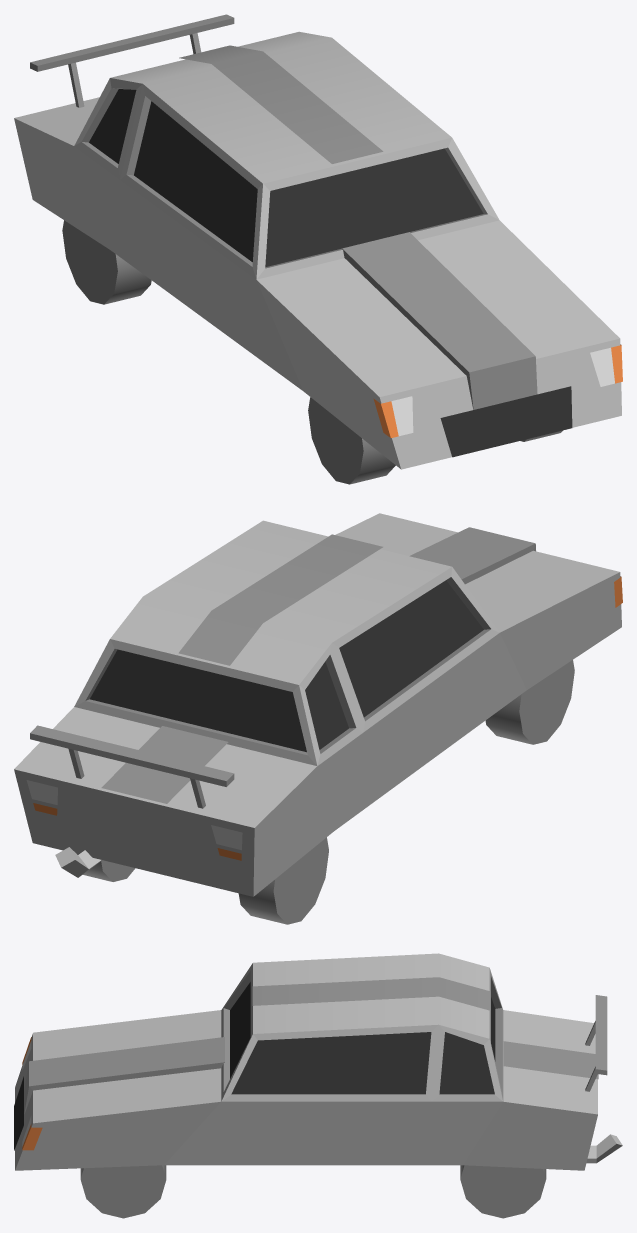
The model's file is sportscar_08.fbx.
3 renders of one model, top to bottom at view 1: azimuth 30°, elevation 25°; view 2: azimuth 150°, elevation 25°; view 3: azimuth 270°, elevation 25°, orthographic. The views are drawn at different scales.
Parts seen in each view (by area): view 1: sportscar_08; view 2: sportscar_08; view 3: sportscar_08.
Boxes of the visible parts, <box> form: sportscar_08: <box>14,14,622,484</box>; sportscar_08: <box>14,513,622,924</box>; sportscar_08: <box>14,953,622,1218</box>.
Size of the model in its own units: 1.6 by 1.56 by 4.49.
